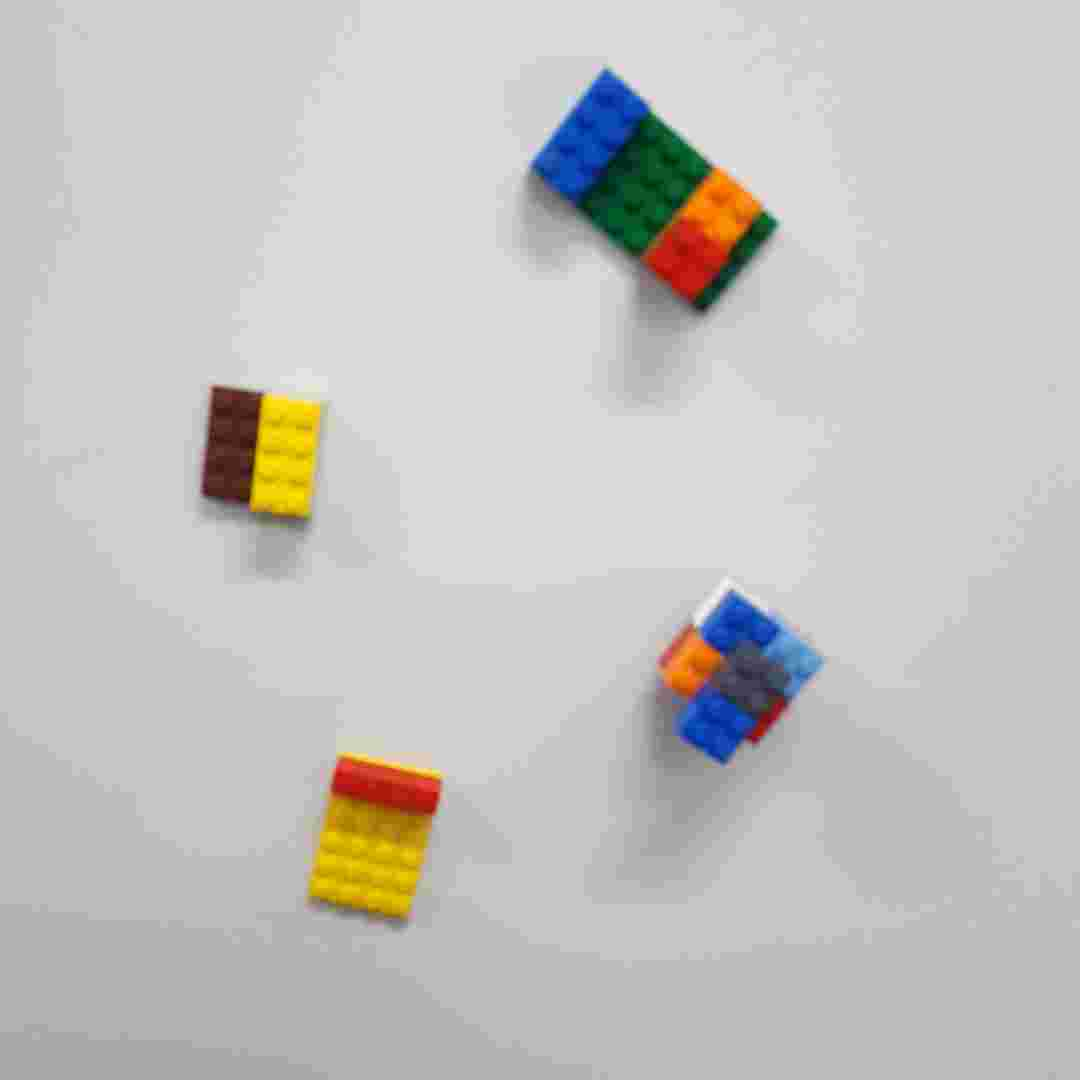LEGO: (527, 60, 782, 318), (655, 579, 827, 766), (305, 752, 446, 928), (202, 383, 323, 523)
